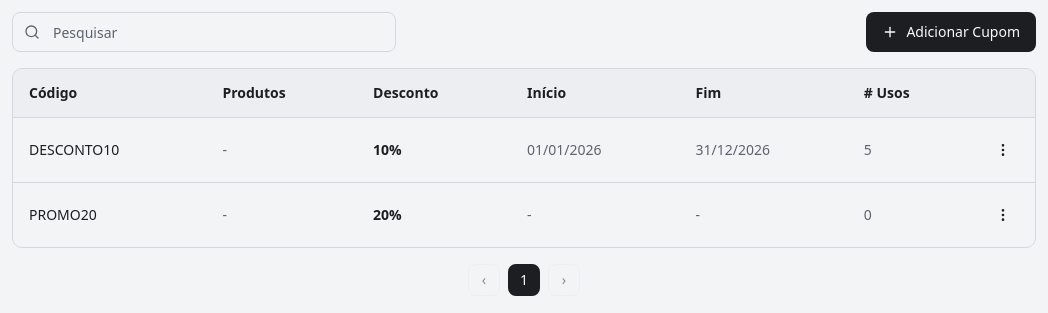
Test case: CouponsTable › Search Functionality › filters coupons by code
In the field with placeholder "Pesquisar": (204, 32) top-left (12, 12), bottom-right (396, 52), type "DESCONTO"
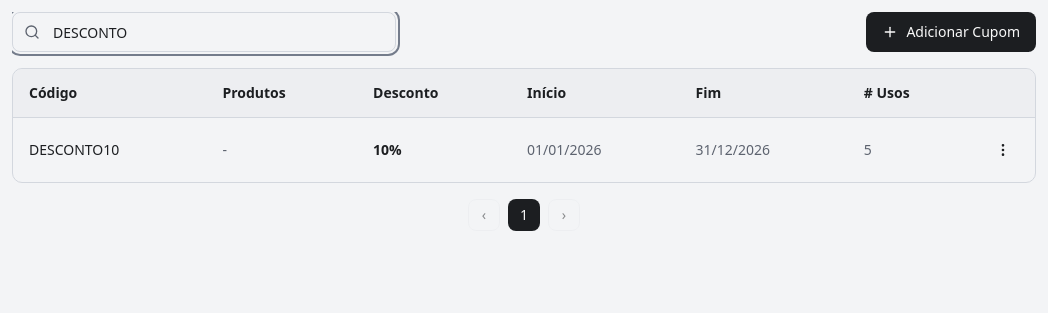
Expected: the text "DESCONTO10" is shown, top-left (13, 117), bottom-right (206, 182)
Now the text "PROMO20" is gone
